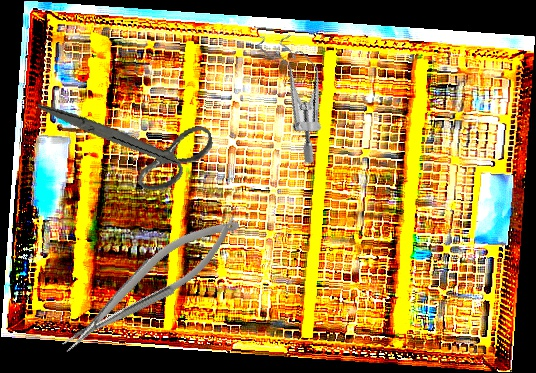Iris Scissors: (37, 67, 221, 213)
Needle Holder: (47, 203, 253, 362)
Speculum: (220, 18, 365, 168)
